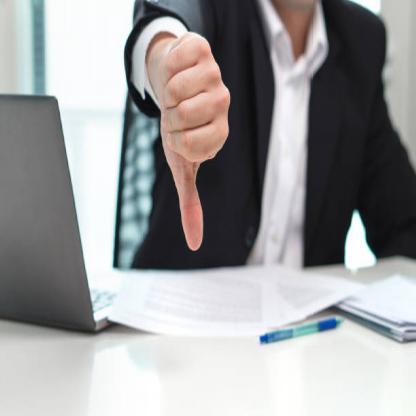thumb_down: (154, 28, 233, 254)
